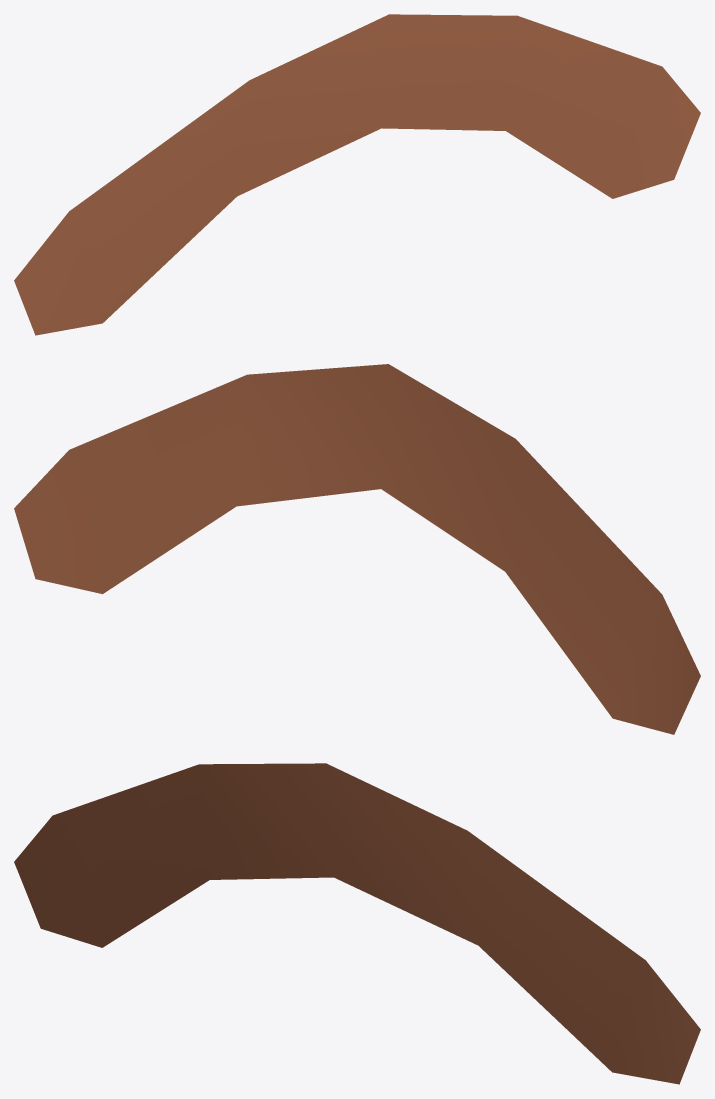
Rendered from Mouth_Yellow_4.fbx.
The picture shows the model from 3 angles, top to bottom: view 1: azimuth 30°, elevation 25°; view 2: azimuth 150°, elevation 25°; view 3: azimuth 330°, elevation 25°; orthographic projection.
Visible parts, largest first — view 1: Mouth_Yellow_4; view 2: Mouth_Yellow_4; view 3: Mouth_Yellow_4.
Boxes of the visible parts, bbox=[...] form: Mouth_Yellow_4: bbox=[14, 14, 700, 335]; Mouth_Yellow_4: bbox=[14, 364, 700, 734]; Mouth_Yellow_4: bbox=[14, 763, 700, 1084].
Size of the model in its own units: 6.25 by 2.35 by 0.5357.
